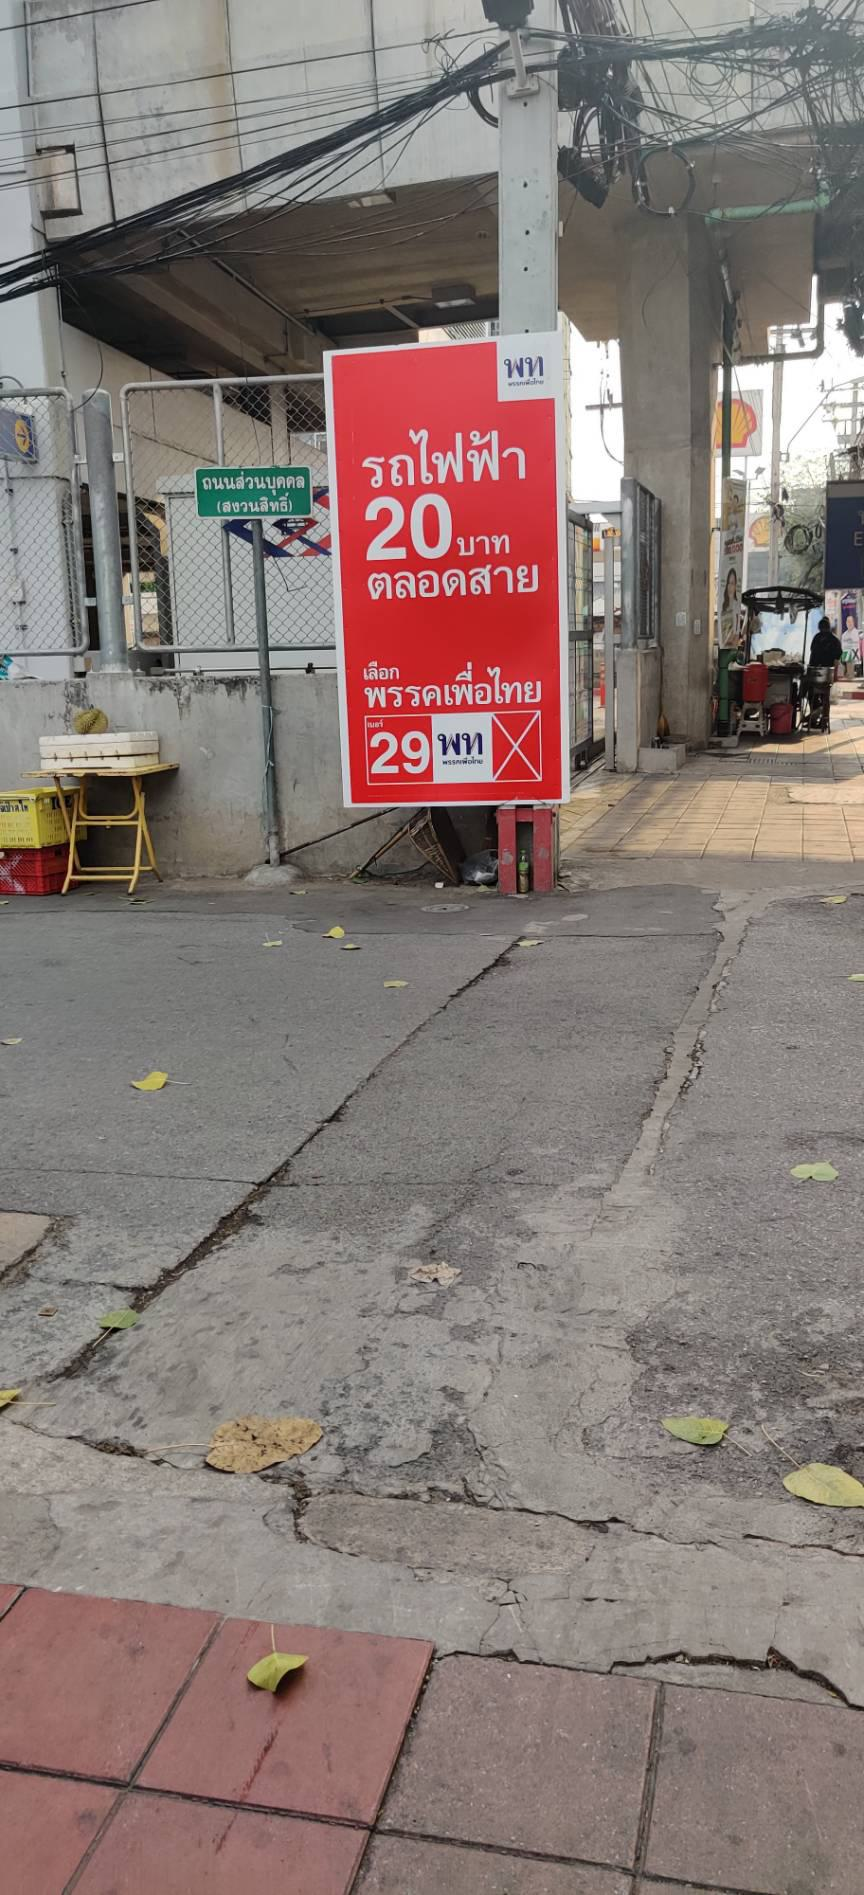Banner: (327, 343, 569, 802)
